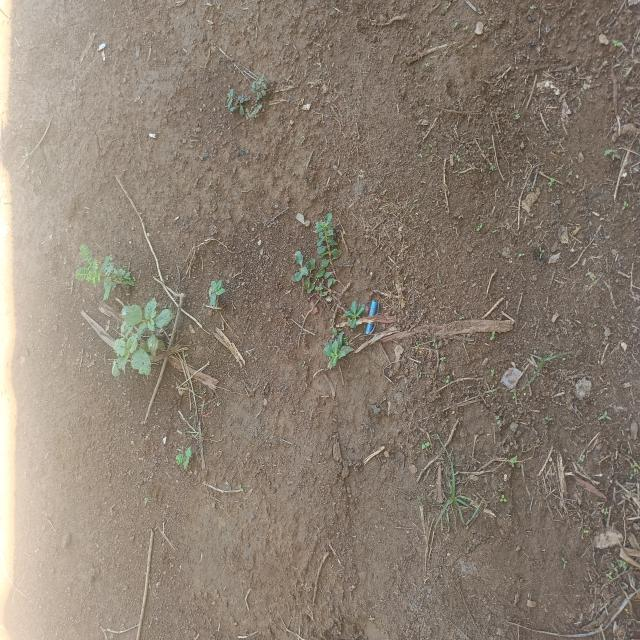weed: (69, 249, 183, 387), (282, 218, 369, 372), (221, 77, 277, 130)
